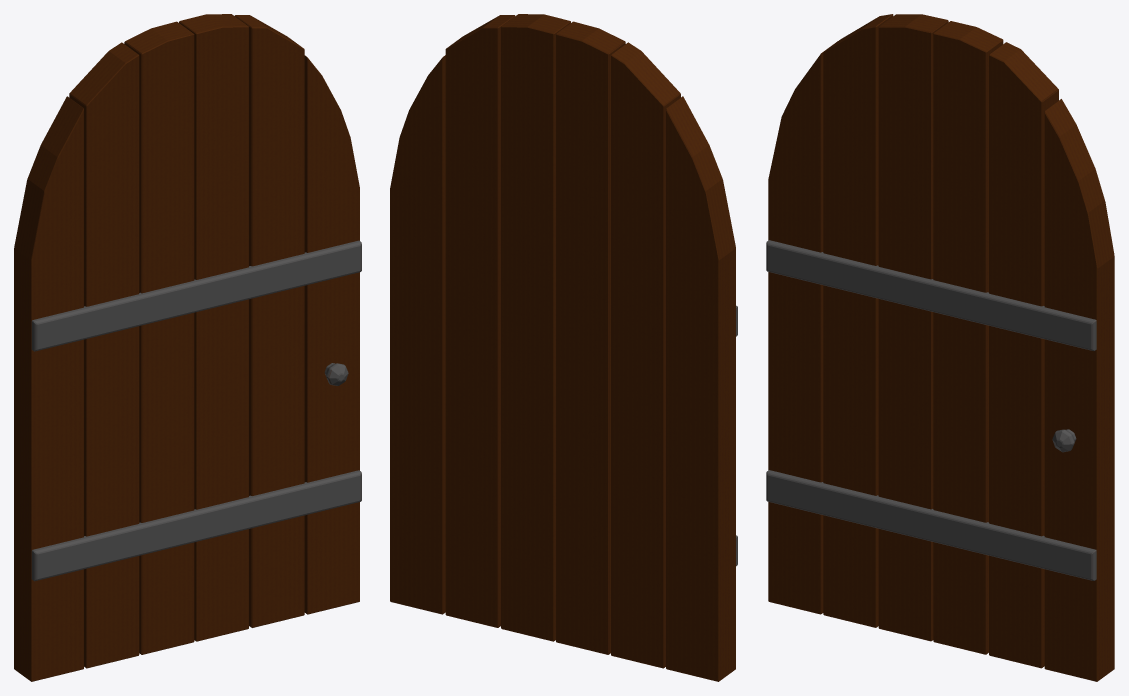
Rendered from Building_1_door.fbx.
3 views of the same model, side by side, from view 1: azimuth 30°, elevation 25°; view 2: azimuth 150°, elevation 25°; view 3: azimuth 330°, elevation 25° (orthographic).
Visible parts, largest first — view 1: NewDoor_1.001; view 2: NewDoor_1.001; view 3: NewDoor_1.001.
Boxes of the visible parts, <box> form: NewDoor_1.001: <box>14,14,361,681</box>; NewDoor_1.001: <box>390,14,737,681</box>; NewDoor_1.001: <box>766,14,1114,681</box>.
Size of the model in its own units: 6.57 by 46.47 by 82.09.
1 material, 1 textured.
